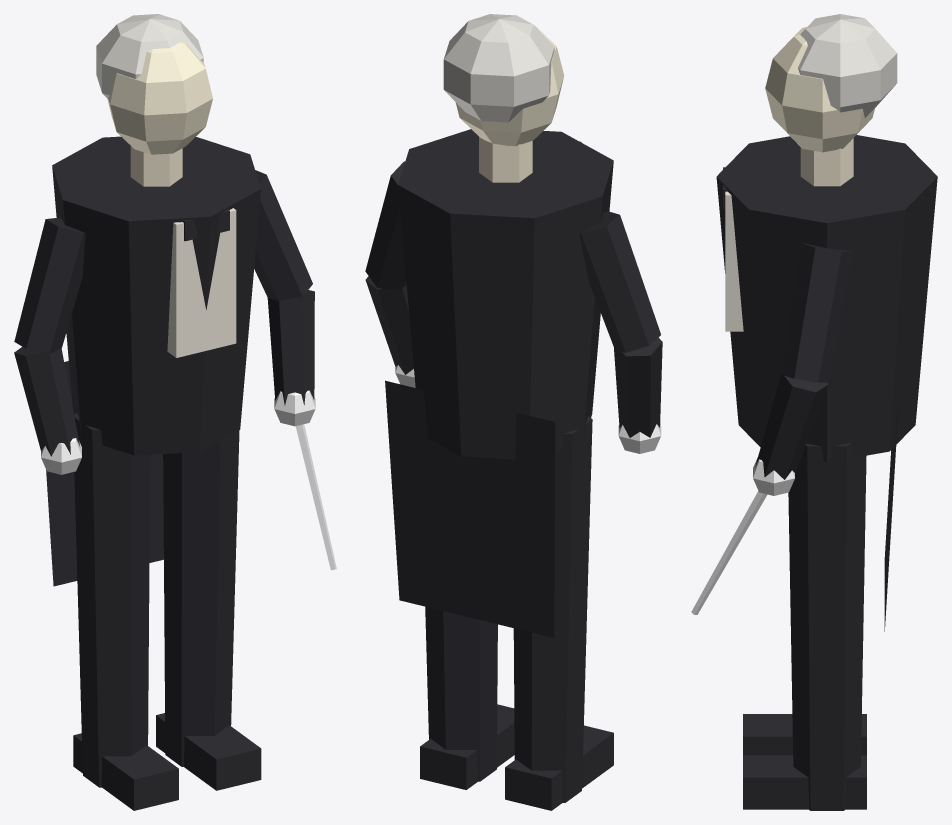
File: Conductor_down.obj
3 views of the same model, side by side, from view 1: azimuth 30°, elevation 25°; view 2: azimuth 150°, elevation 25°; view 3: azimuth 270°, elevation 25° (orthographic). The views are drawn at different scales.
Visible parts, largest first — view 1: Conductor_down; view 2: Conductor_down; view 3: Conductor_down.
Boxes of the visible parts, x1=… form: Conductor_down: x1=14, y1=14, x2=336, y2=810; Conductor_down: x1=365, y1=14, x2=662, y2=810; Conductor_down: x1=691, y1=14, x2=937, y2=810.
Size of the model in its own units: 0.7546 by 1.89 by 0.5571.
Materials: 1 (1 with a texture image).
